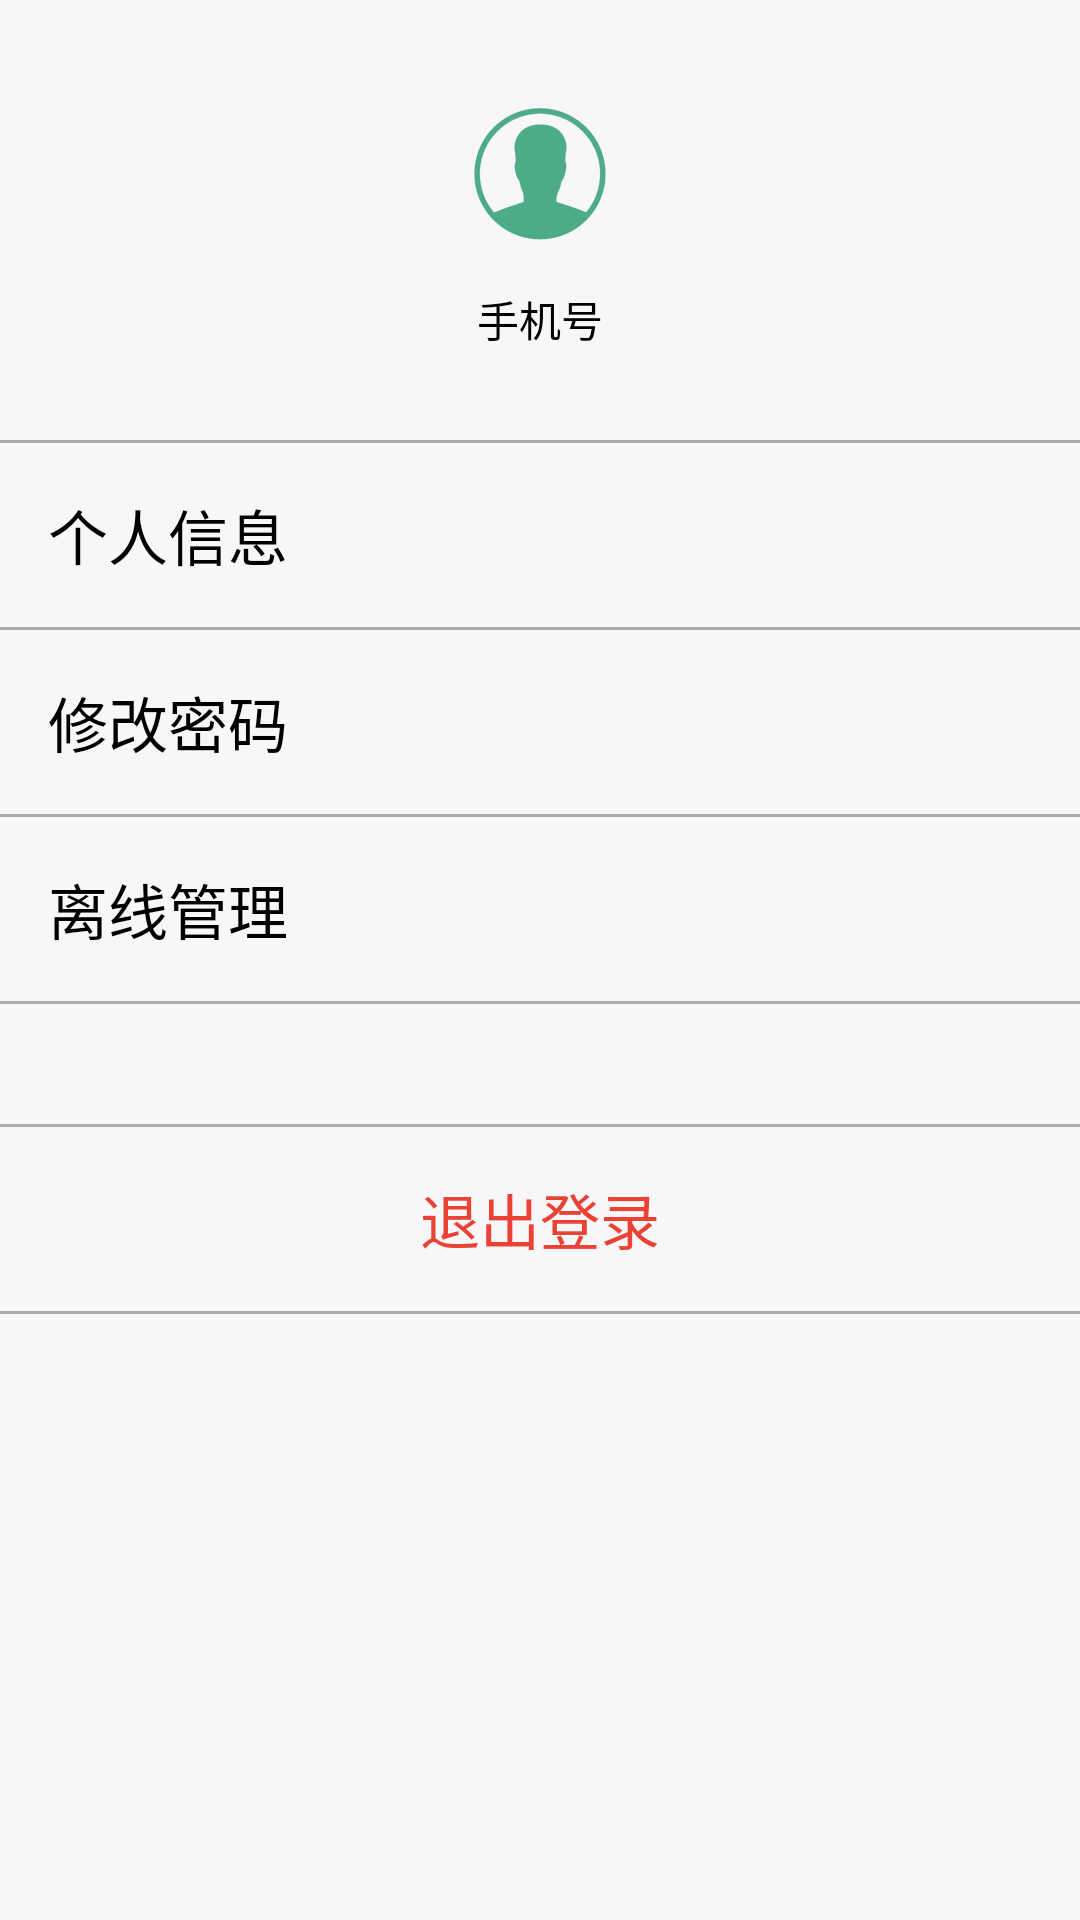

Icon click points for this 1080×1920 phone screenshot, format [x,y]:
head slid: [540,174]
